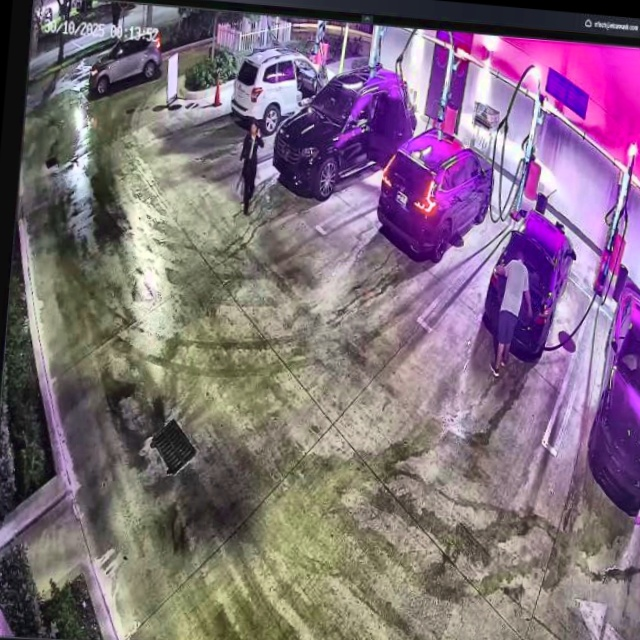Car: (267, 61, 421, 204), (373, 121, 500, 260), (480, 203, 576, 367)
